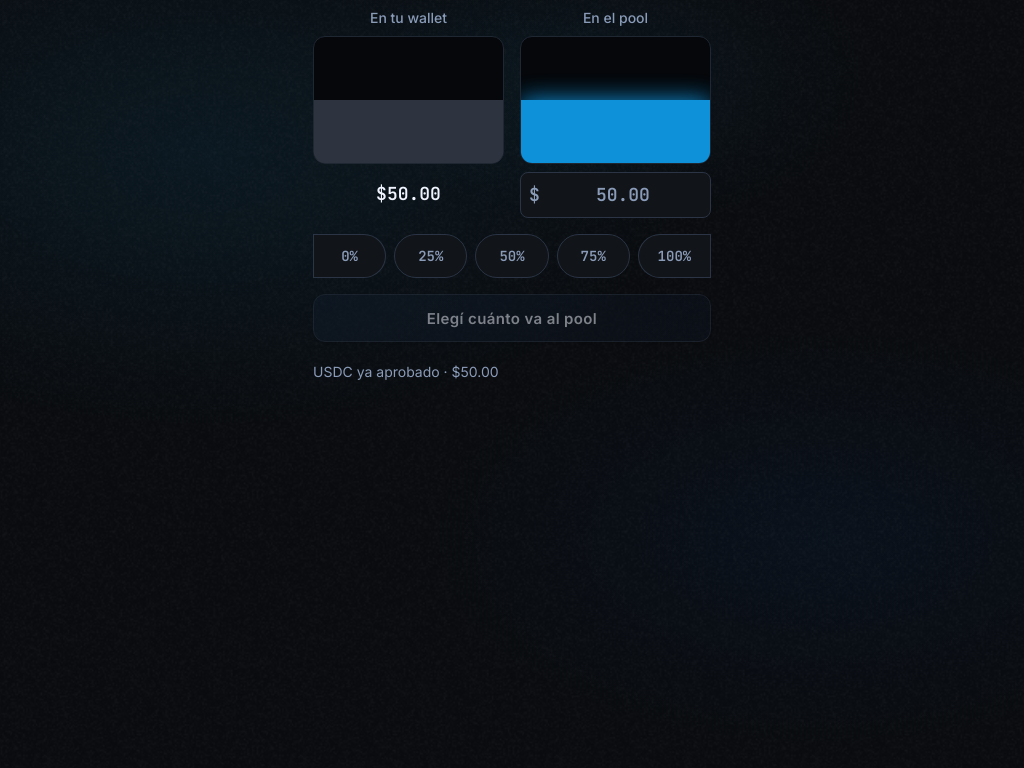
Scenario: MoveScreen › a share pill fills the input with the matching amount and stays selected
The width and height of the screenshot is (1024, 768).
Click the radio button labelled "25%". click: (431, 256)
box: top-left (394, 234), bottom-right (467, 278)
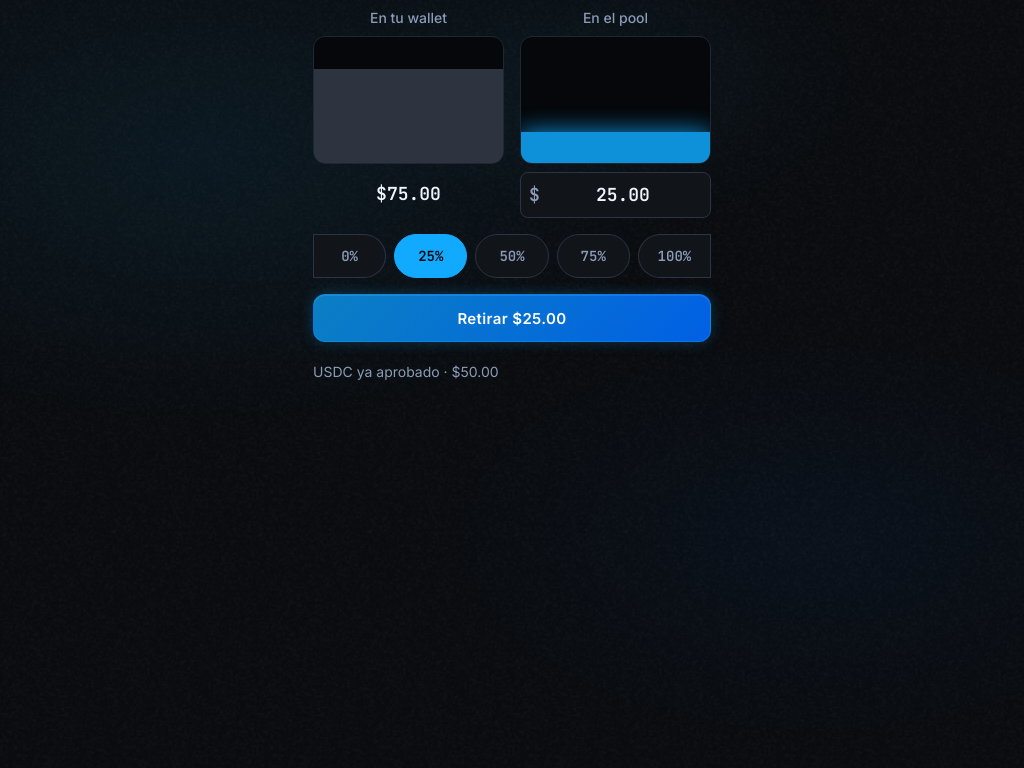
Result: the field named "Cuánto querés tener en el pool" holds "25.00" at top-left (544, 173), bottom-right (702, 217)
Result: the button "Retirar $25.00" is enabled at top-left (313, 294), bottom-right (711, 342)
